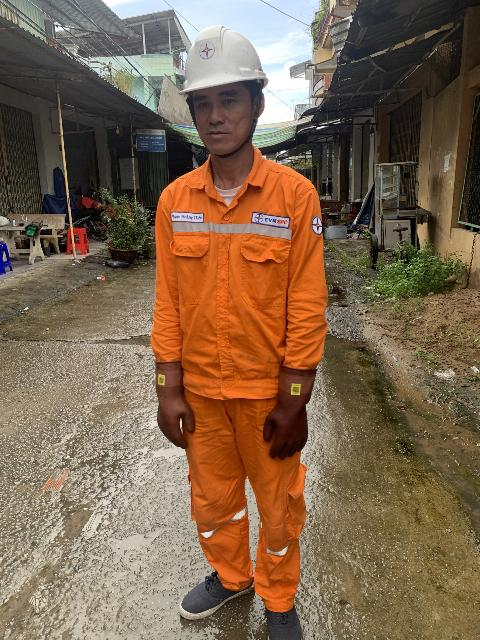gloves: (141, 351, 202, 459), (254, 366, 310, 469)
helmet: (166, 26, 276, 105)
shoes: (169, 553, 253, 622), (251, 582, 320, 640)
